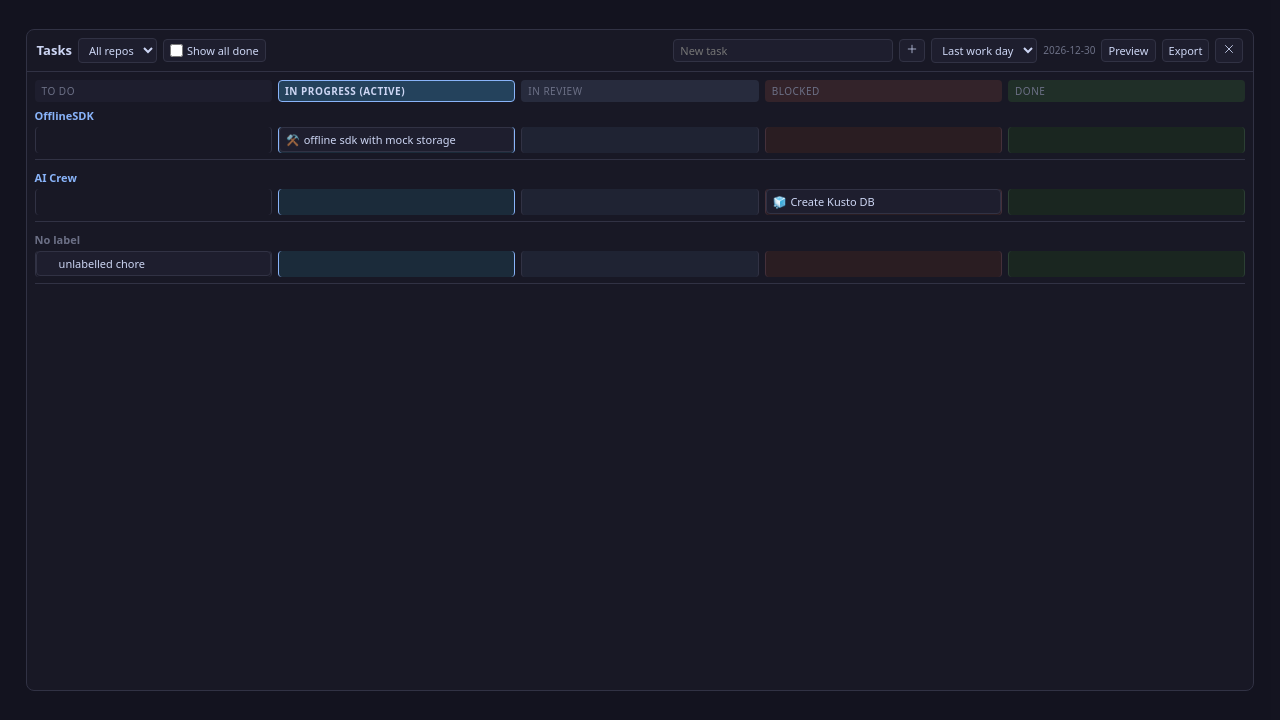
Scenario: TaskBoard › hides work finished on an earlier day until show-all is toggled
Expected: the text "offline sdk with mock storage" is shown, top-left (304, 132), bottom-right (456, 147)
Expected: the text "finished long ago" is not shown
Click the checkbox with test id "toggle-show-all-done" at (176, 50), box top-left (170, 44), bottom-right (183, 57)
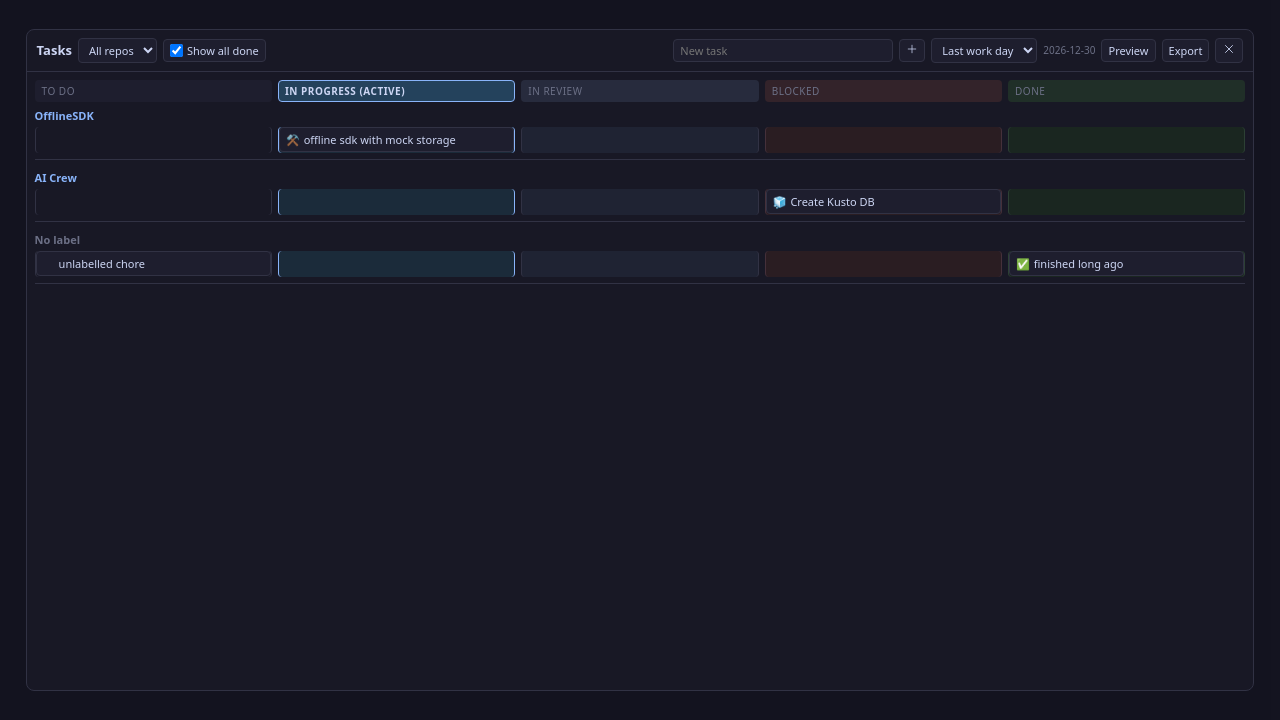
Now the text "finished long ago" is shown, box top-left (1034, 256), bottom-right (1124, 271)
